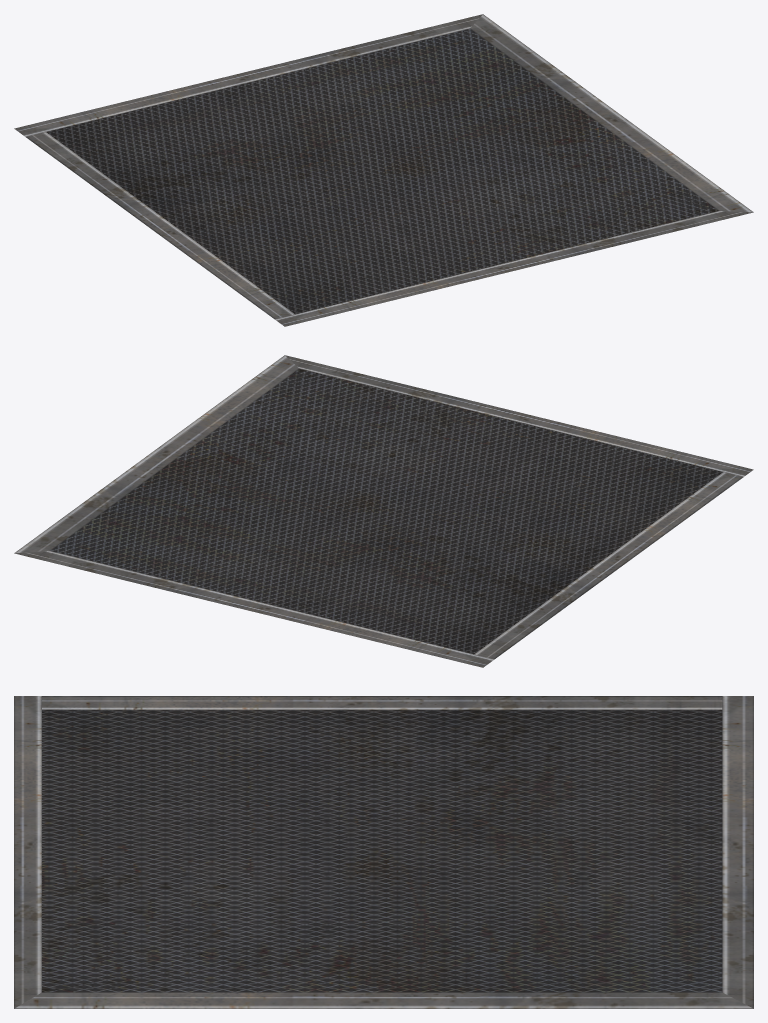
The model's file is Floor_G_2'5qmts_09.fbx.
3 renders of one model, top to bottom at view 1: azimuth 30°, elevation 25°; view 2: azimuth 150°, elevation 25°; view 3: azimuth 270°, elevation 25°, orthographic. The views are drawn at different scales.
Visible parts, largest first — view 1: Floor_G_2'5qmts_09; view 2: Floor_G_2'5qmts_09; view 3: Floor_G_2'5qmts_09.
Boxes of the visible parts, x1,y1,x2,y2 form: Floor_G_2'5qmts_09: (14,14,753,326); Floor_G_2'5qmts_09: (14,355,753,667); Floor_G_2'5qmts_09: (14,696,753,1008).
Size of the model in its own units: 200 by 0.000143 by 200.
1 material, 1 textured.
